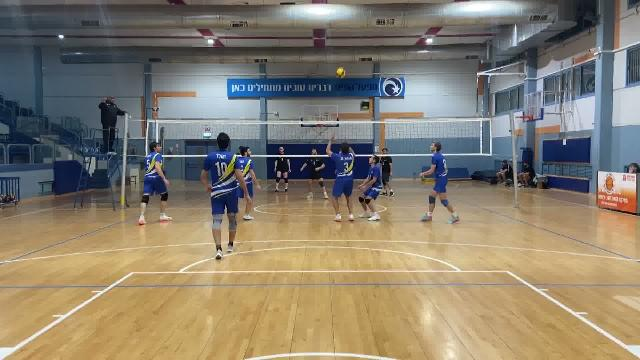ball: (334, 67, 347, 81)
